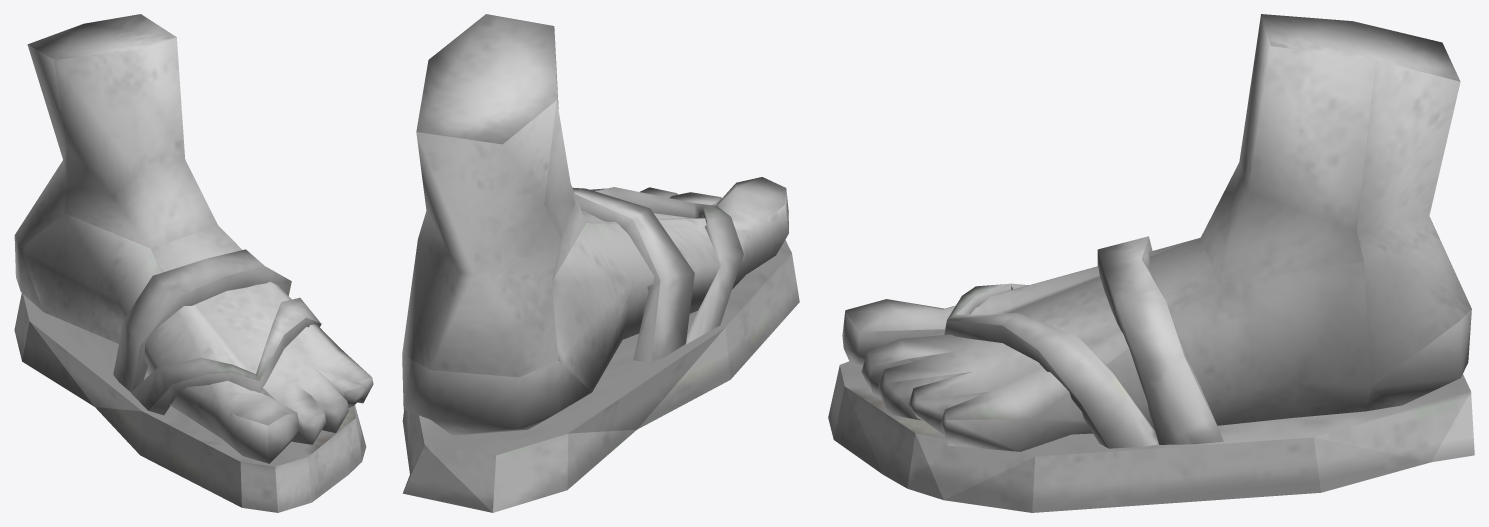
The model's file is ob-bigstatue03.fbx.
3 renders of one model, left to right at view 1: azimuth 30°, elevation 25°; view 2: azimuth 150°, elevation 25°; view 3: azimuth 270°, elevation 25°, orthographic. The views are drawn at different scales.
Visible parts, largest first — view 1: Box503; view 2: Box503; view 3: Box503.
Boxes of the visible parts, x1,y1,x2,y2 form: Box503: [14, 14, 373, 512]; Box503: [402, 14, 799, 512]; Box503: [828, 14, 1474, 512].
Bounding box in the file's own units: 1.88 × 2.98 × 4.18.
